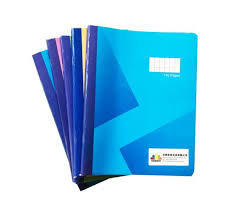book: (79, 24, 198, 177)
